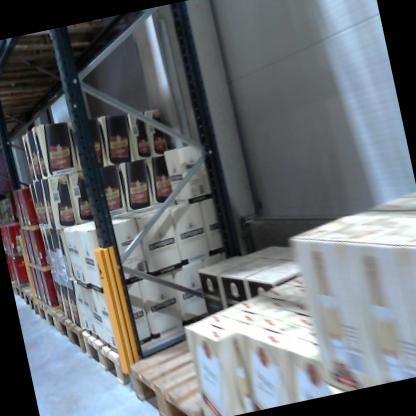pallet: (79, 295, 233, 404), (121, 312, 247, 416), (0, 19, 108, 92), (0, 36, 113, 95), (52, 298, 91, 361), (33, 290, 65, 338), (20, 280, 40, 318), (13, 280, 28, 302)
